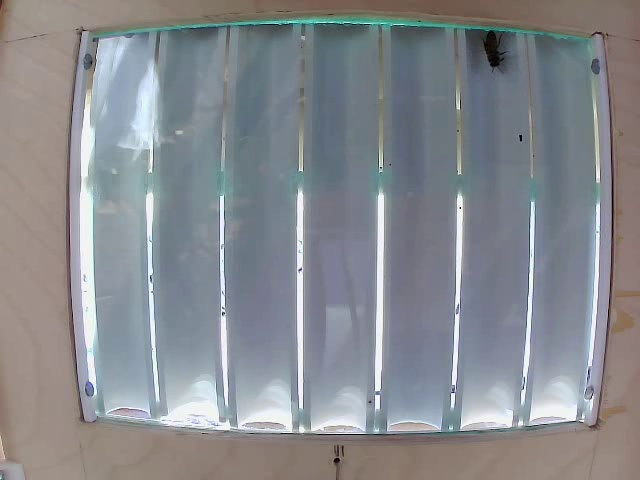bee: (471, 33, 519, 80)
